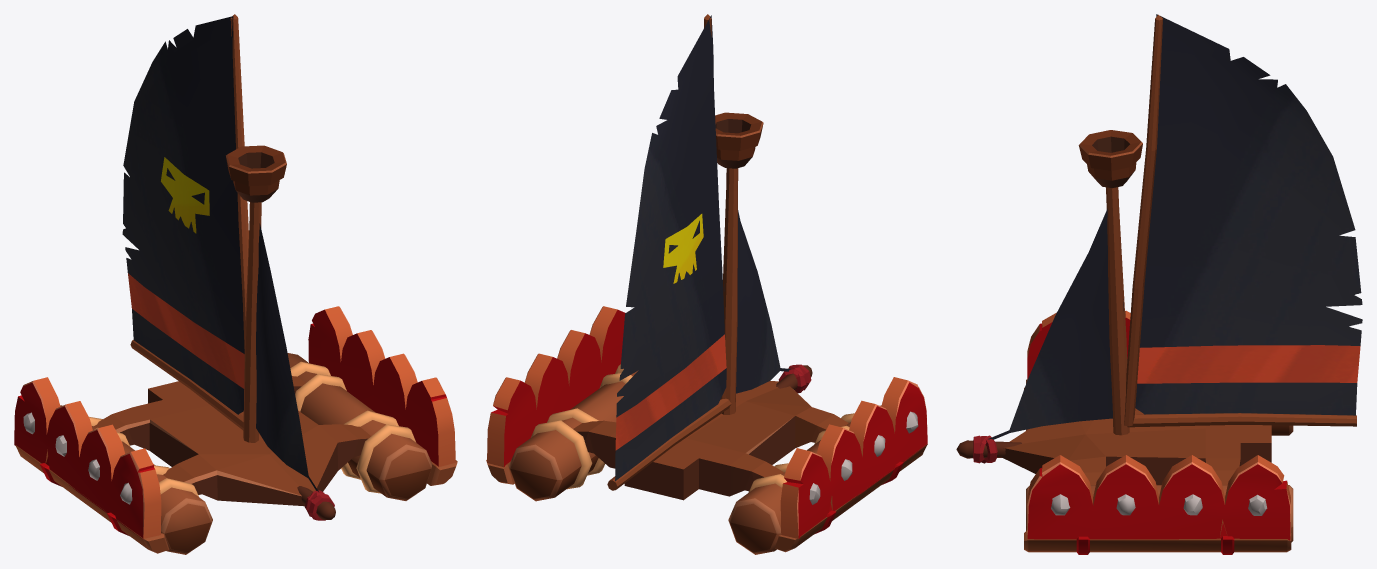
The model's file is CanoeTypeA.fbx.
3 renders of one model, left to right at view 1: azimuth 30°, elevation 25°; view 2: azimuth 150°, elevation 25°; view 3: azimuth 270°, elevation 25°, orthographic.
Visible parts, largest first — view 1: Color_Cloth_01, Color_01, Armor_Color_08, Armor_Color_07, Color_03, Color_05, Color_02, Color_04, Armor_Color_06; view 2: Color_Cloth_01, Color_01, Armor_Color_08, Armor_Color_07, Color_03, Color_05, Color_02, Armor_Color_06; view 3: Color_Cloth_01, Armor_Color_07, Color_01, Color_05, Color_04, Armor_Color_06, Armor_Color_08, Armor_Color_05.
Boxes of the visible parts, left/top/right/bottom form: Color_Cloth_01: left=122, top=16, right=318, bottom=491; Color_01: left=94, top=376, right=371, bottom=520; Armor_Color_08: left=14, top=377, right=161, bottom=539; Armor_Color_07: left=308, top=306, right=455, bottom=466; Color_03: left=287, top=353, right=432, bottom=500; Color_05: left=130, top=145, right=286, bottom=442; Color_02: left=60, top=405, right=212, bottom=554; Color_04: left=230, top=14, right=248, bottom=348; Armor_Color_06: left=15, top=445, right=457, bottom=553; Color_Cloth_01: left=615, top=15, right=790, bottom=481; Color_01: left=573, top=364, right=848, bottom=500; Armor_Color_08: left=780, top=377, right=927, bottom=538; Armor_Color_07: left=487, top=306, right=625, bottom=467; Color_03: left=508, top=364, right=638, bottom=501; Color_05: left=607, top=112, right=763, bottom=490; Color_02: left=728, top=405, right=881, bottom=554; Armor_Color_06: left=486, top=444, right=927, bottom=552; Color_Cloth_01: left=988, top=14, right=1362, bottom=439; Armor_Color_07: left=1027, top=455, right=1290, bottom=540; Color_01: left=956, top=408, right=1271, bottom=485; Color_05: left=1078, top=130, right=1356, bottom=435; Color_04: left=1124, top=14, right=1162, bottom=426; Armor_Color_06: left=1024, top=387, right=1291, bottom=552; Armor_Color_08: left=1027, top=310, right=1130, bottom=378; Armor_Color_05: left=1076, top=536, right=1234, bottom=554.
Size of the model in its own units: 18.04 by 25.08 by 19.17.
